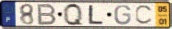8: (19, 3, 36, 26)
B: (37, 3, 58, 26)
C: (135, 4, 155, 26)
G: (114, 5, 132, 26)
L: (88, 4, 105, 25)
Q: (62, 3, 85, 27)
